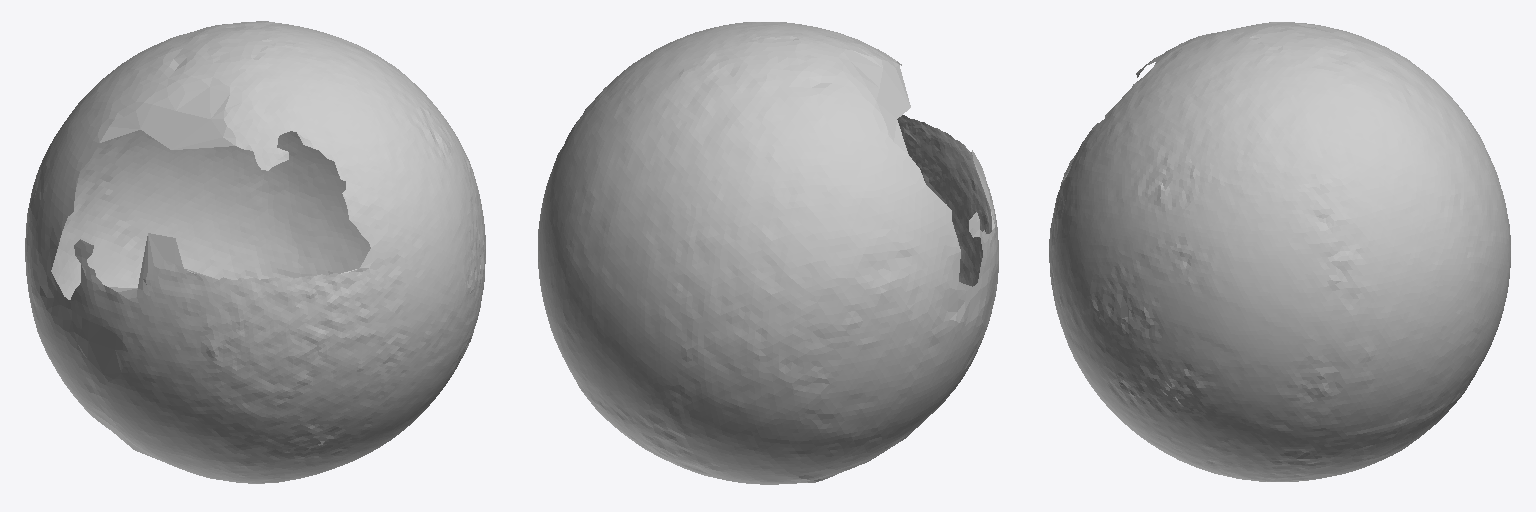
The model's file is Gridtest_0_2_0.000001.obj.
The picture shows the model from 3 angles: view 1: azimuth 30°, elevation 25°; view 2: azimuth 150°, elevation 25°; view 3: azimuth 270°, elevation 25°; orthographic projection.
Bounding box in the file's own units: 299 × 303 × 299.